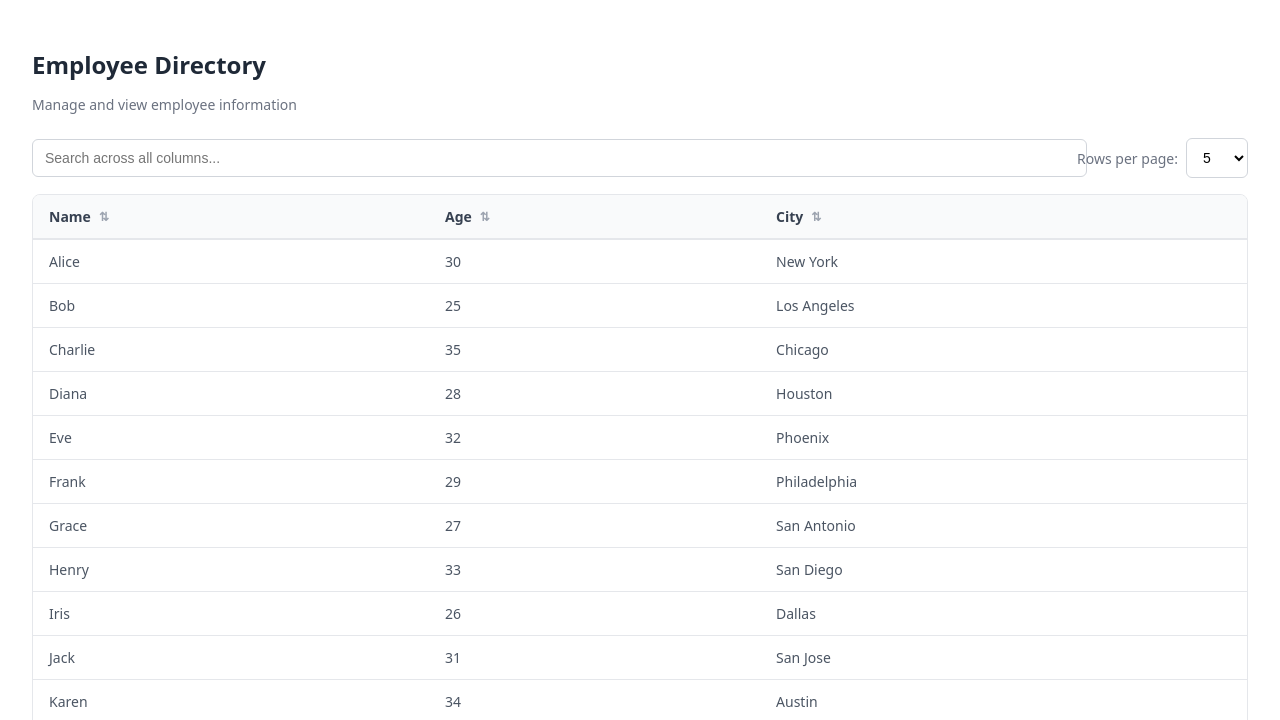
Test: DataTable Component › Filtering › shows empty state when filter has no matches
Type "xyz123" into the field with test id "filter-input" at [560, 158], box [32,139,1087,177]
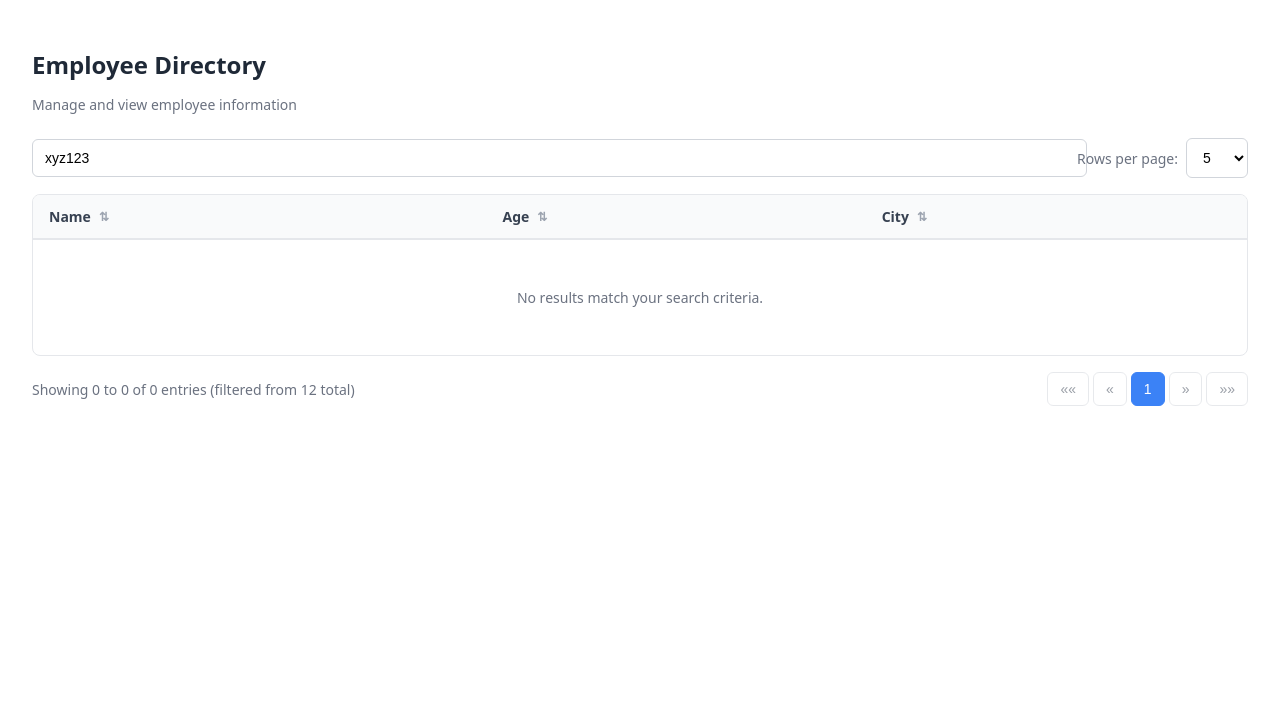
Check: the cell with test id "empty-state" reads "No results match your search criteria.", box [517,288,763,307]
